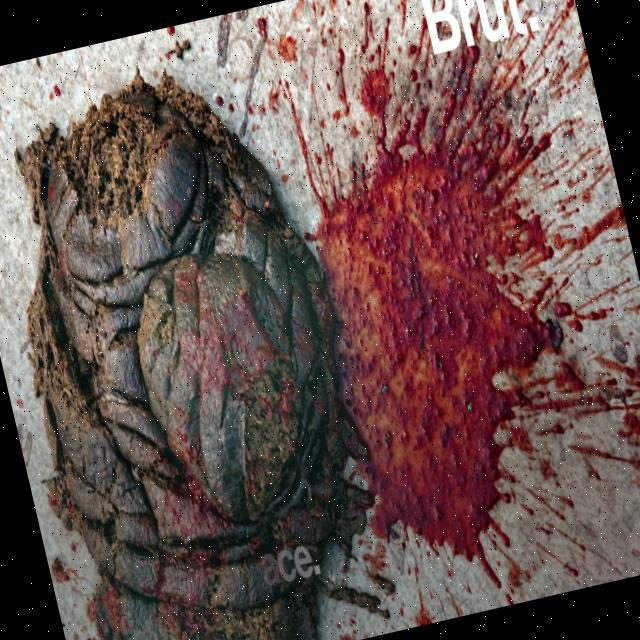spit: (270, 26, 640, 595)
